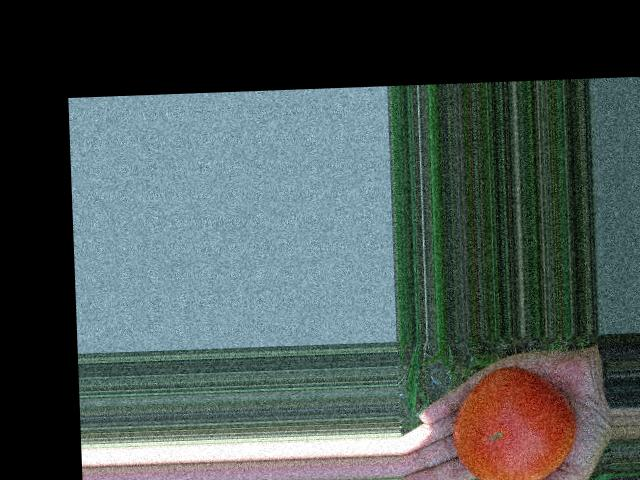tomato: (450, 364, 576, 480)
